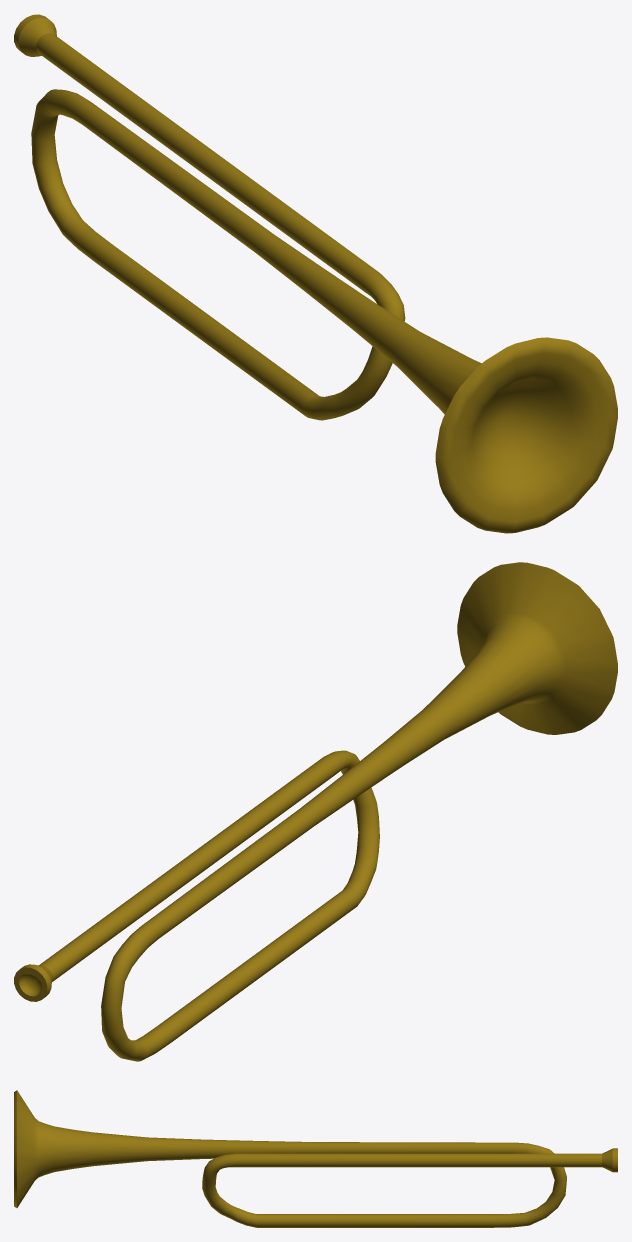
Rendered from trumpet.FBX.
3 renders of one model, top to bottom at view 1: azimuth 30°, elevation 25°; view 2: azimuth 150°, elevation 25°; view 3: azimuth 270°, elevation 25°, orthographic. The views are drawn at different scales.
Parts seen in each view (by area): view 1: trumpet; view 2: trumpet; view 3: trumpet.
Boxes of the visible parts, x1=… form: trumpet: x1=14, y1=14, x2=617, y2=533; trumpet: x1=14, y1=562, x2=617, y2=1061; trumpet: x1=14, y1=1090, x2=617, y2=1227.
Size of the model in its own units: 63.71 by 77.87 by 325.
1 material, 1 textured.
